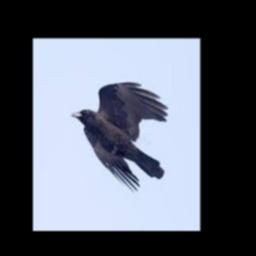Crow: (71, 81, 168, 191)
